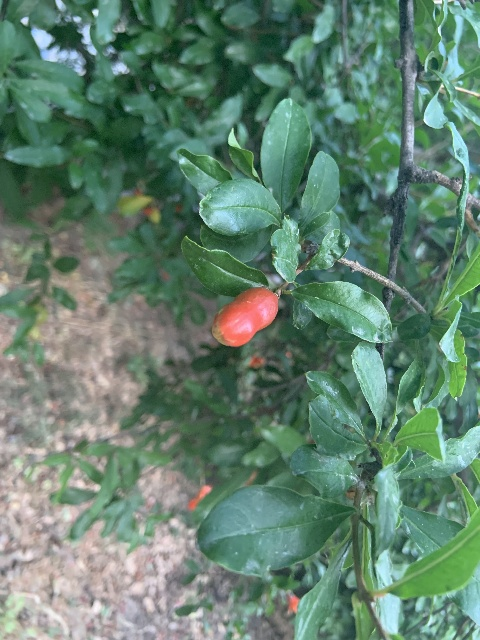bud: (212, 287, 277, 347)
